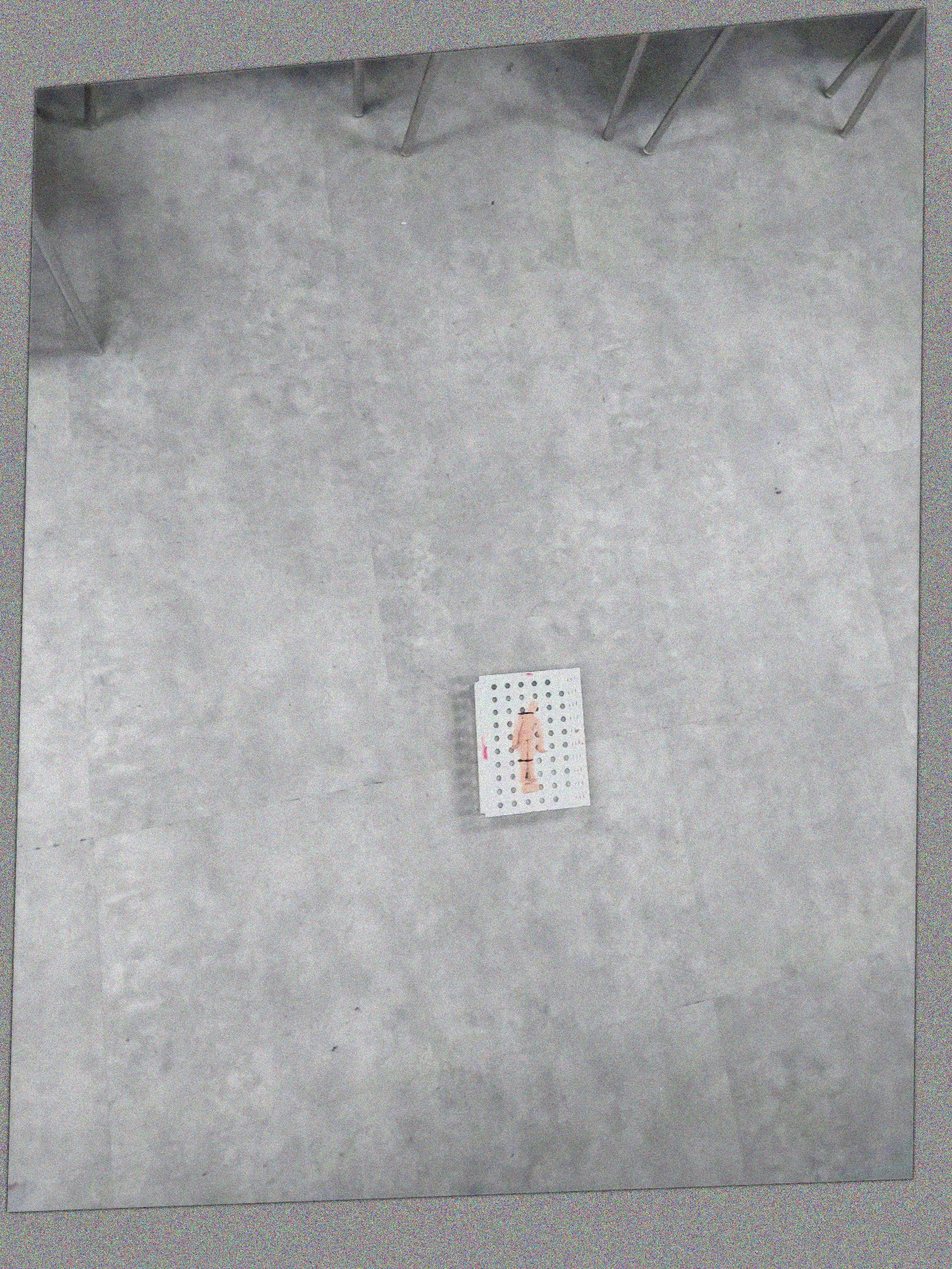basket: (471, 665, 593, 819)
mannequin: (509, 698, 548, 796)
